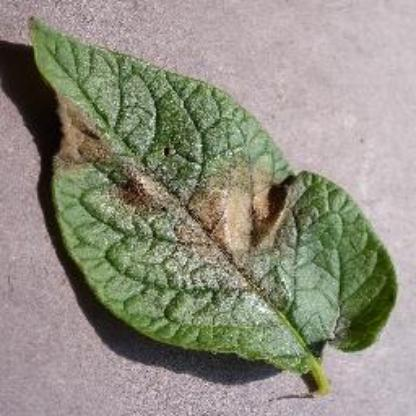Late-Blight: (22, 12, 402, 390)
